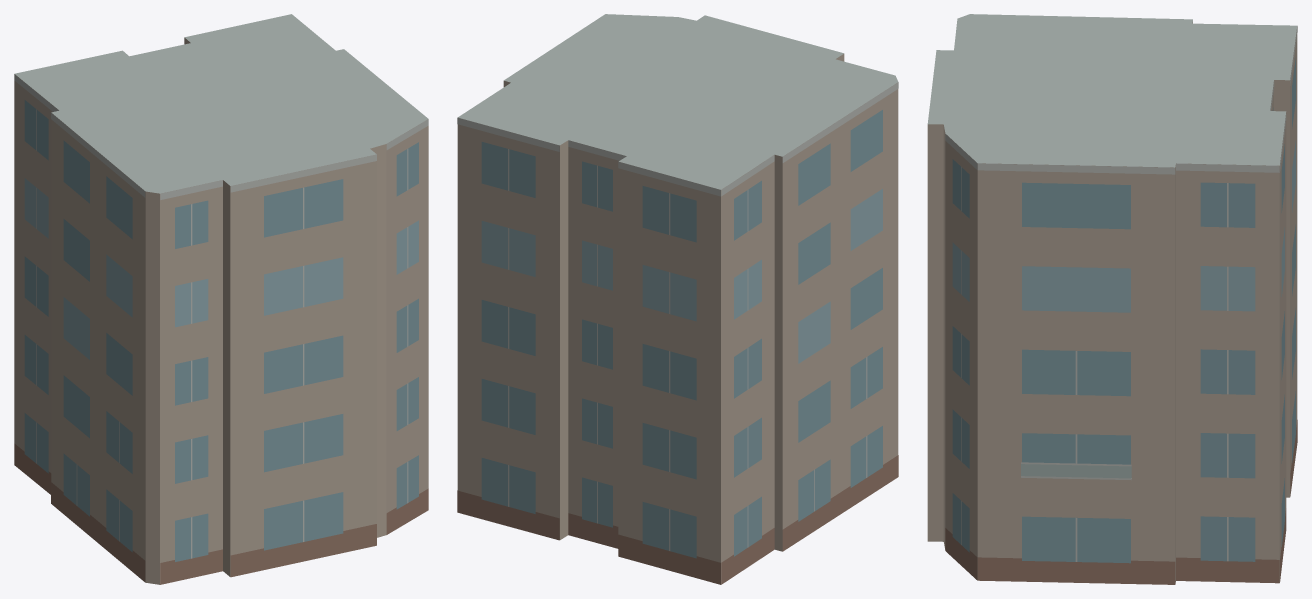
The model's file is survey-upis-32704173.glb.
3 renders of one model, left to right at view 1: azimuth 30°, elevation 25°; view 2: azimuth 150°, elevation 25°; view 3: azimuth 270°, elevation 25°, orthographic. The views are drawn at different scales.
Visible parts, largest first — view 1: survey-upis-32704173.tmp; view 2: survey-upis-32704173.tmp; view 3: survey-upis-32704173.tmp.
Part boxes in pixels (<box>): survey-upis-32704173.tmp: <box>14,14,428,584</box>; survey-upis-32704173.tmp: <box>457,14,898,584</box>; survey-upis-32704173.tmp: <box>927,14,1297,584</box>.
Bounding box in the file's own units: 11.37 × 14.4 × 11.57.
